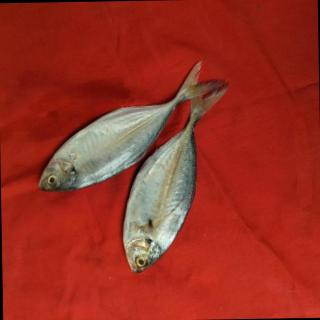Ikan: (32, 55, 240, 280)
